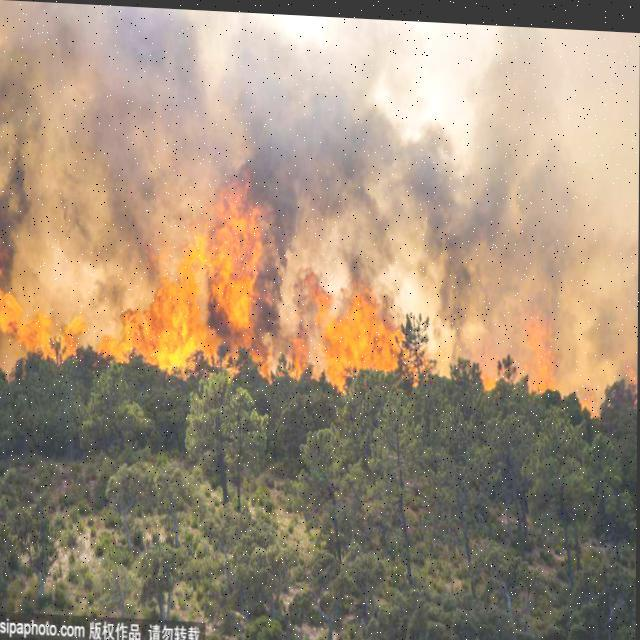Fire: (100, 148, 430, 387), (467, 297, 595, 401)
